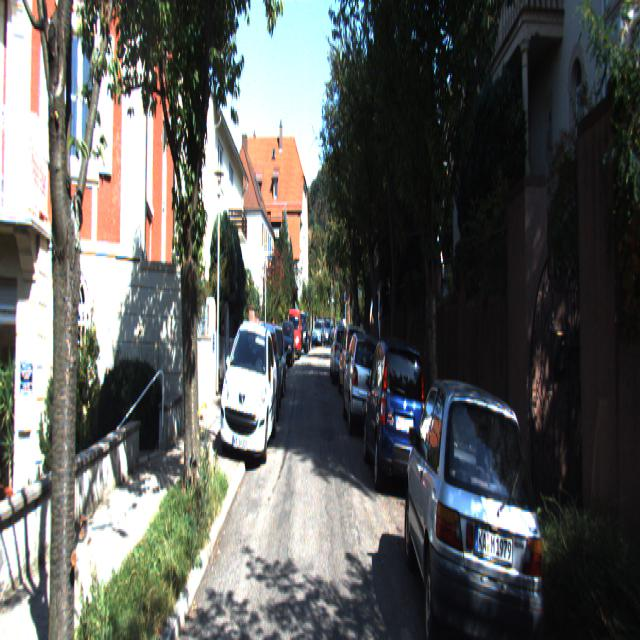Car: (404, 362, 551, 638), (545, 425, 640, 638), (364, 327, 430, 508), (220, 313, 278, 470), (343, 324, 388, 444), (248, 327, 284, 434), (337, 320, 369, 404), (330, 318, 354, 385), (278, 317, 296, 368), (287, 306, 303, 361), (294, 310, 309, 356)
